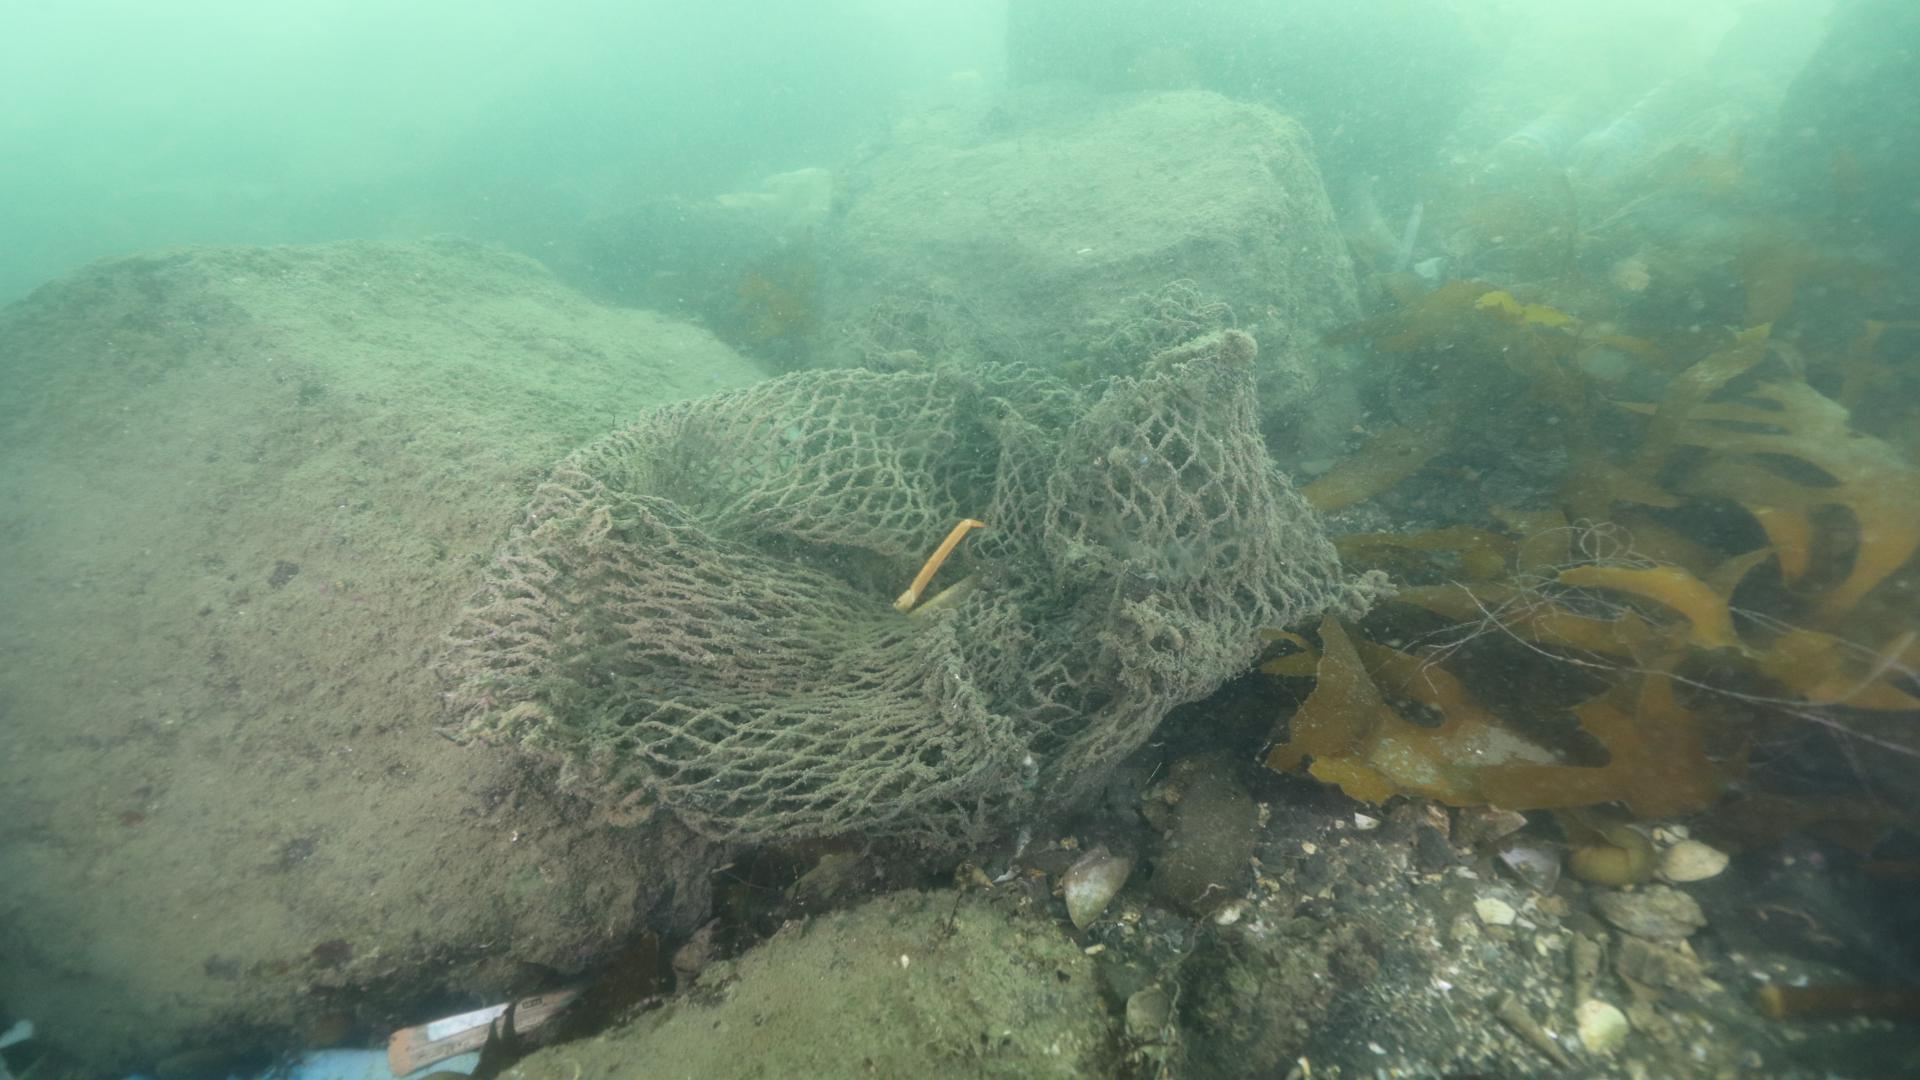fish net: (431, 326, 1370, 840)
